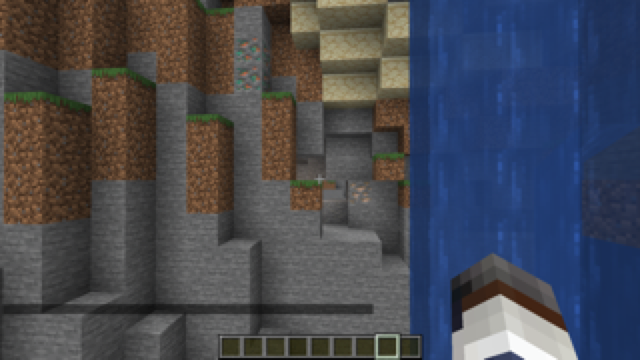copper: (233, 37, 268, 94)
iron: (346, 179, 372, 205)
